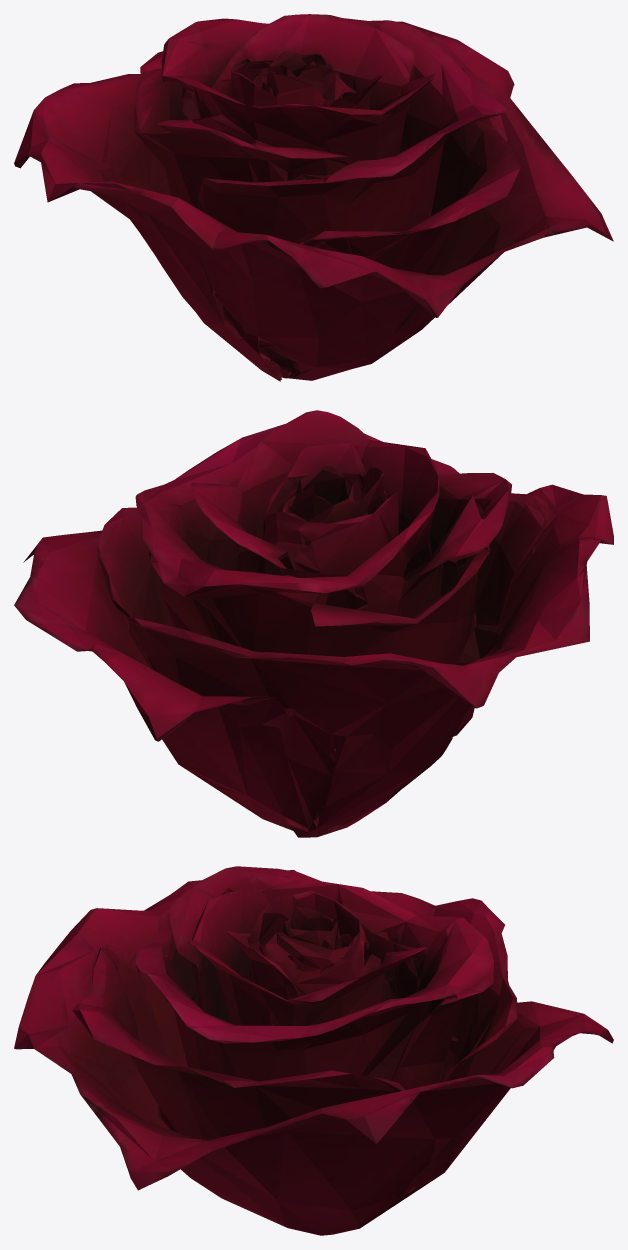
The model's file is rose.glb.
3 views of the same model, one above another, from view 1: azimuth 30°, elevation 25°; view 2: azimuth 150°, elevation 25°; view 3: azimuth 270°, elevation 25° (orthographic). The views are drawn at different scales.
Visible parts, largest first — view 1: geometry_0; view 2: geometry_0; view 3: geometry_0.
Boxes of the visible parts, x1,y1,x2,y2 form: geometry_0: (14, 14, 613, 381); geometry_0: (14, 410, 613, 837); geometry_0: (14, 866, 613, 1235).
Bounding box in the file's own units: 0.9209 × 0.5868 × 0.9977.
Materials: 1 (1 with a texture image).
